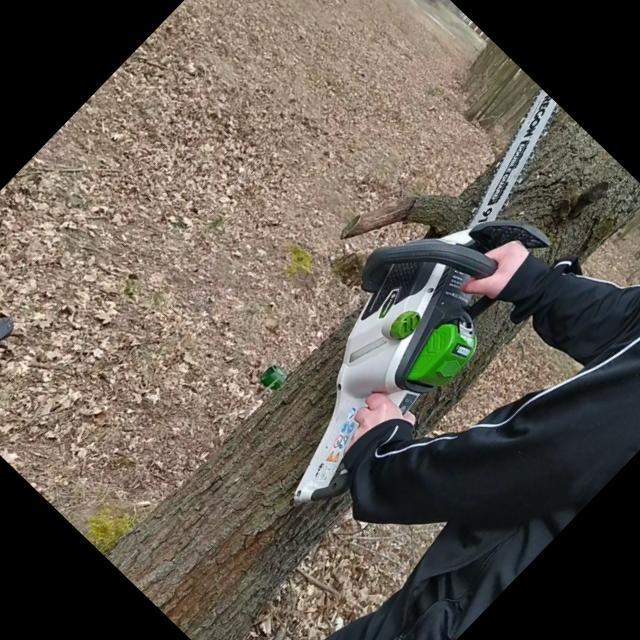Chainsaw: (200, 78, 640, 534)
